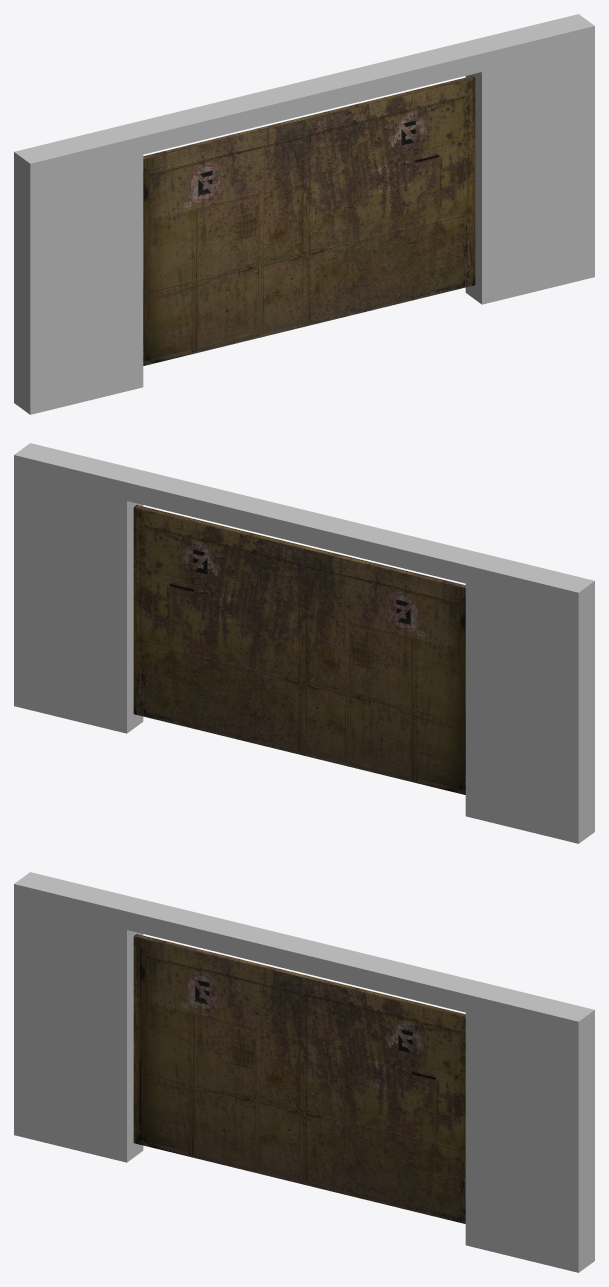
Rendered from metal_gate.fbx.
The picture shows the model from 3 angles, top to bottom: view 1: azimuth 30°, elevation 25°; view 2: azimuth 150°, elevation 25°; view 3: azimuth 330°, elevation 25°; orthographic projection.
Visible parts, largest first — view 1: metal_gate:metal_gate:gate_concrete, metal_gate:metal_gate:gate_right, metal_gate:metal_gate:gate_left; view 2: metal_gate:metal_gate:gate_concrete, metal_gate:metal_gate:gate_right, metal_gate:metal_gate:gate_left; view 3: metal_gate:metal_gate:gate_concrete, metal_gate:metal_gate:gate_left, metal_gate:metal_gate:gate_right.
Boxes of the visible parts, bbox=[...] form: metal_gate:metal_gate:gate_concrete: bbox=[14, 14, 594, 414]; metal_gate:metal_gate:gate_right: bbox=[303, 76, 475, 326]; metal_gate:metal_gate:gate_left: bbox=[143, 117, 305, 365]; metal_gate:metal_gate:gate_concrete: bbox=[14, 443, 594, 843]; metal_gate:metal_gate:gate_right: bbox=[133, 505, 305, 755]; metal_gate:metal_gate:gate_left: bbox=[303, 546, 465, 794]; metal_gate:metal_gate:gate_concrete: bbox=[14, 872, 594, 1272]; metal_gate:metal_gate:gate_left: bbox=[133, 934, 305, 1184]; metal_gate:metal_gate:gate_right: bbox=[303, 975, 465, 1223].
Size of the model in its own units: 20 by 8.5 by 1.
